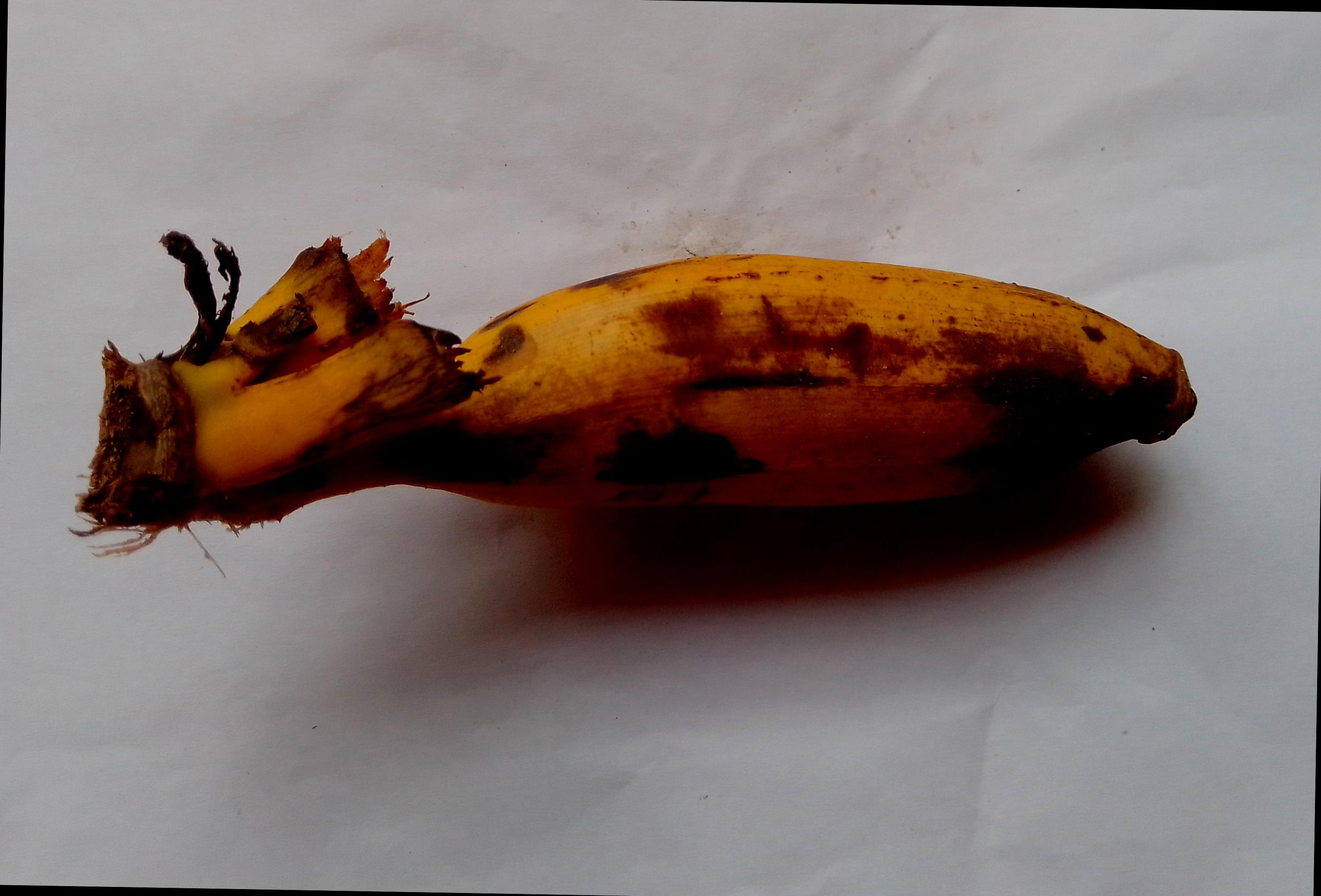Banana Ripe: (298, 164, 1310, 603)
